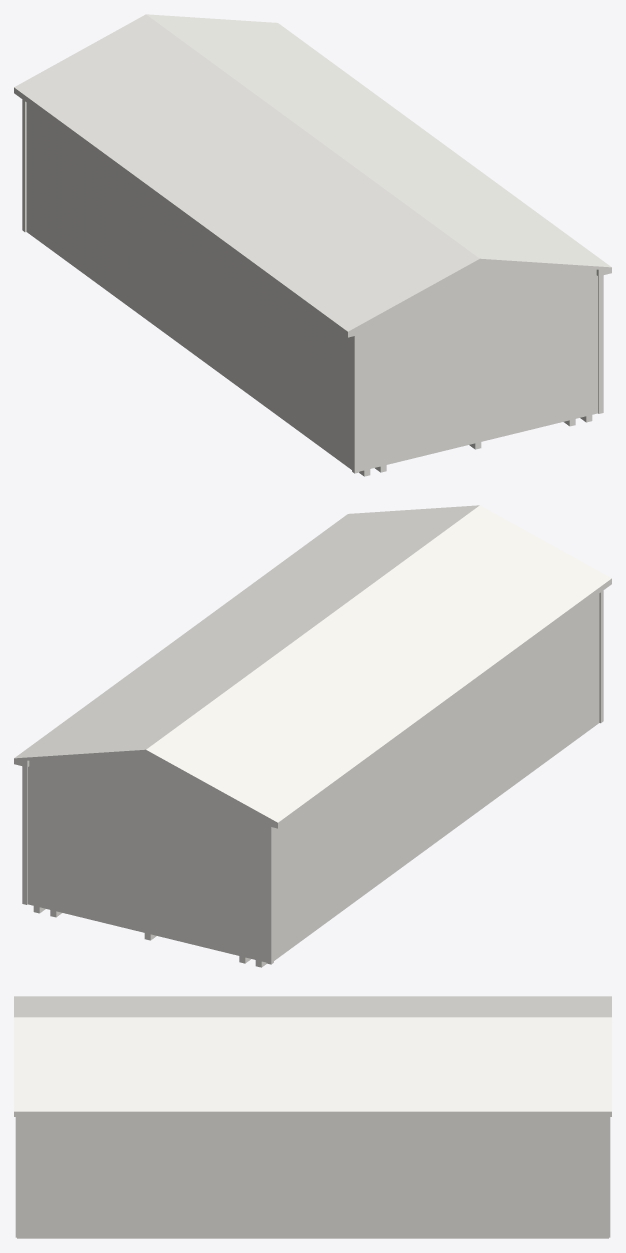
The model's file is 8 wide A-frame_7ft_14x32.obj.
3 renders of one model, top to bottom at view 1: azimuth 30°, elevation 25°; view 2: azimuth 150°, elevation 25°; view 3: azimuth 270°, elevation 25°, orthographic. The views are drawn at different scales.
Visible parts, largest first — view 1: Roof, Shed, Sides, Trim; view 2: Roof, Shed, Sides, Trim; view 3: Shed, Roof, Sides, Trim, Floor.
Boxes of the visible parts, x1,y1,x2,y2 form: Roof: (14, 14, 611, 331); Shed: (26, 103, 598, 471); Sides: (14, 87, 611, 337); Trim: (22, 99, 603, 473); Roof: (14, 505, 611, 822); Shed: (27, 594, 599, 962); Sides: (14, 578, 611, 828); Trim: (22, 590, 603, 964); Shed: (20, 1117, 605, 1236); Roof: (14, 996, 611, 1111); Sides: (14, 1111, 611, 1116); Trim: (15, 1117, 610, 1237); Floor: (17, 1237, 608, 1238).
Bounding box in the file's own units: 4.5 × 3.12 × 9.86.
